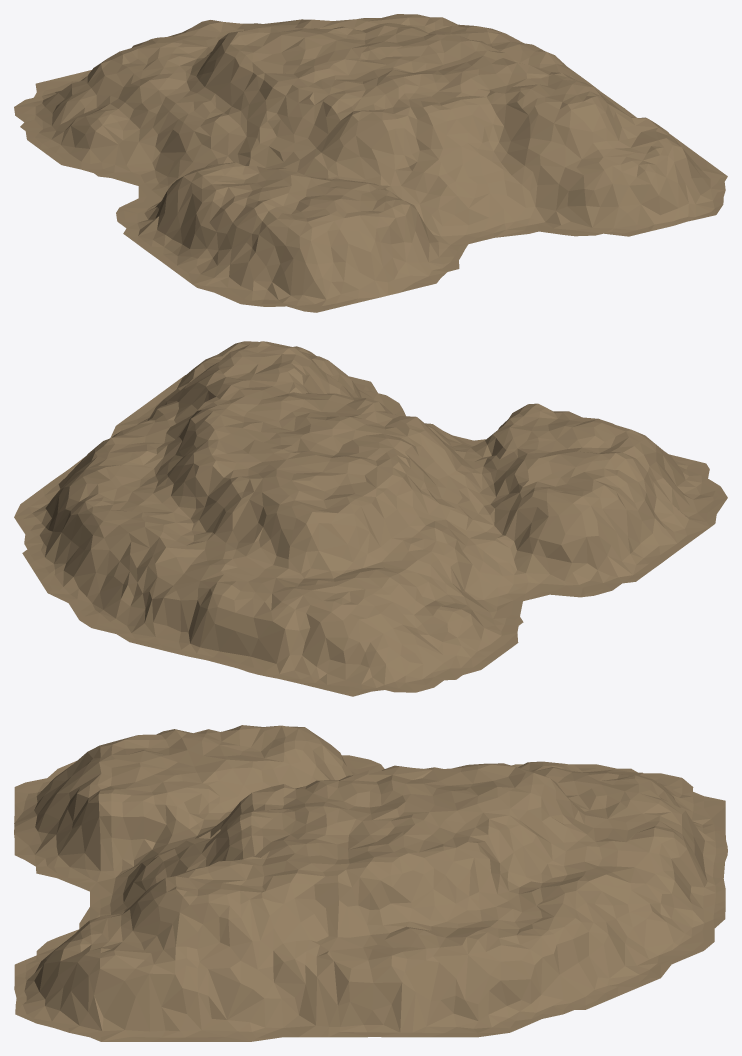
File: LargeTerrain05.fbx
3 views of the same model, one above another, from view 1: azimuth 30°, elevation 25°; view 2: azimuth 150°, elevation 25°; view 3: azimuth 270°, elevation 25° (orthographic). The views are drawn at different scales.
Parts seen in each view (by area): view 1: LargeTerrain05; view 2: LargeTerrain05; view 3: LargeTerrain05.
Part boxes in pixels (x1,y1,x2,y2): LargeTerrain05: (14, 14, 727, 312); LargeTerrain05: (14, 341, 727, 696); LargeTerrain05: (14, 725, 727, 1041).
Size of the model in its own units: 87.3 by 14.29 by 90.4.
